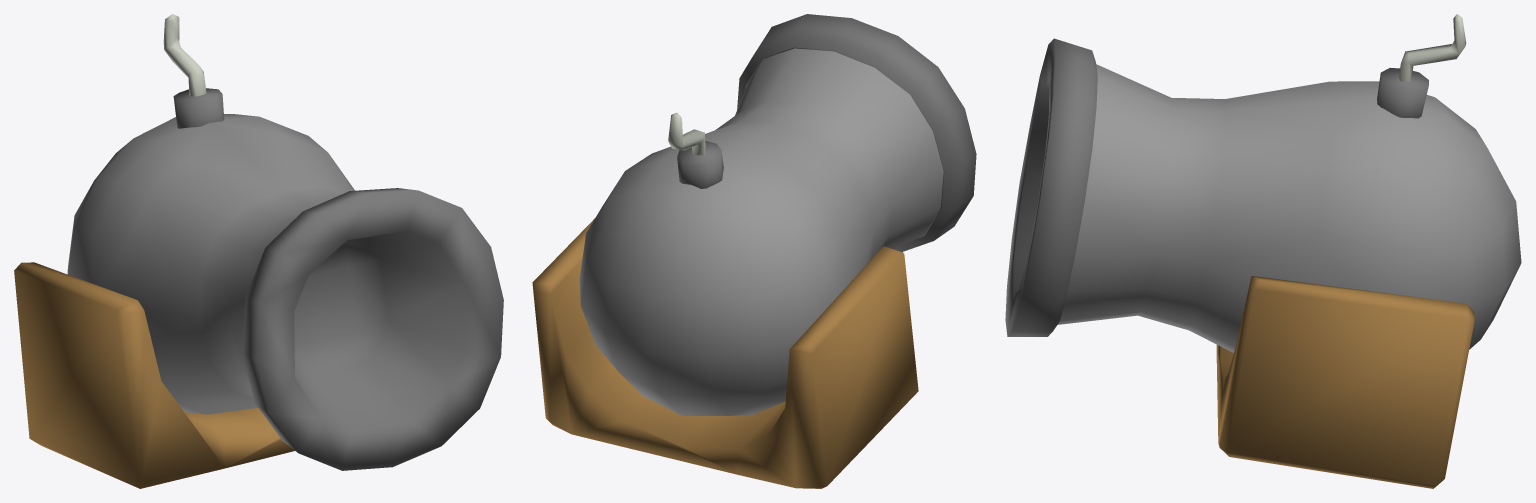
The model's file is decorSmall-harbor-69.glb.
3 renders of one model, left to right at view 1: azimuth 30°, elevation 25°; view 2: azimuth 150°, elevation 25°; view 3: azimuth 270°, elevation 25°, orthographic. The views are drawn at different scales.
Parts seen in each view (by area): view 1: piece; view 2: piece; view 3: piece.
Boxes of the visible parts, left/top/right/bottom form: piece: left=14, top=14, right=503, bottom=488; piece: left=532, top=14, right=976, bottom=488; piece: left=1005, top=14, right=1521, bottom=488.
Size of the model in its own units: 2.04 by 2.45 by 2.85.
